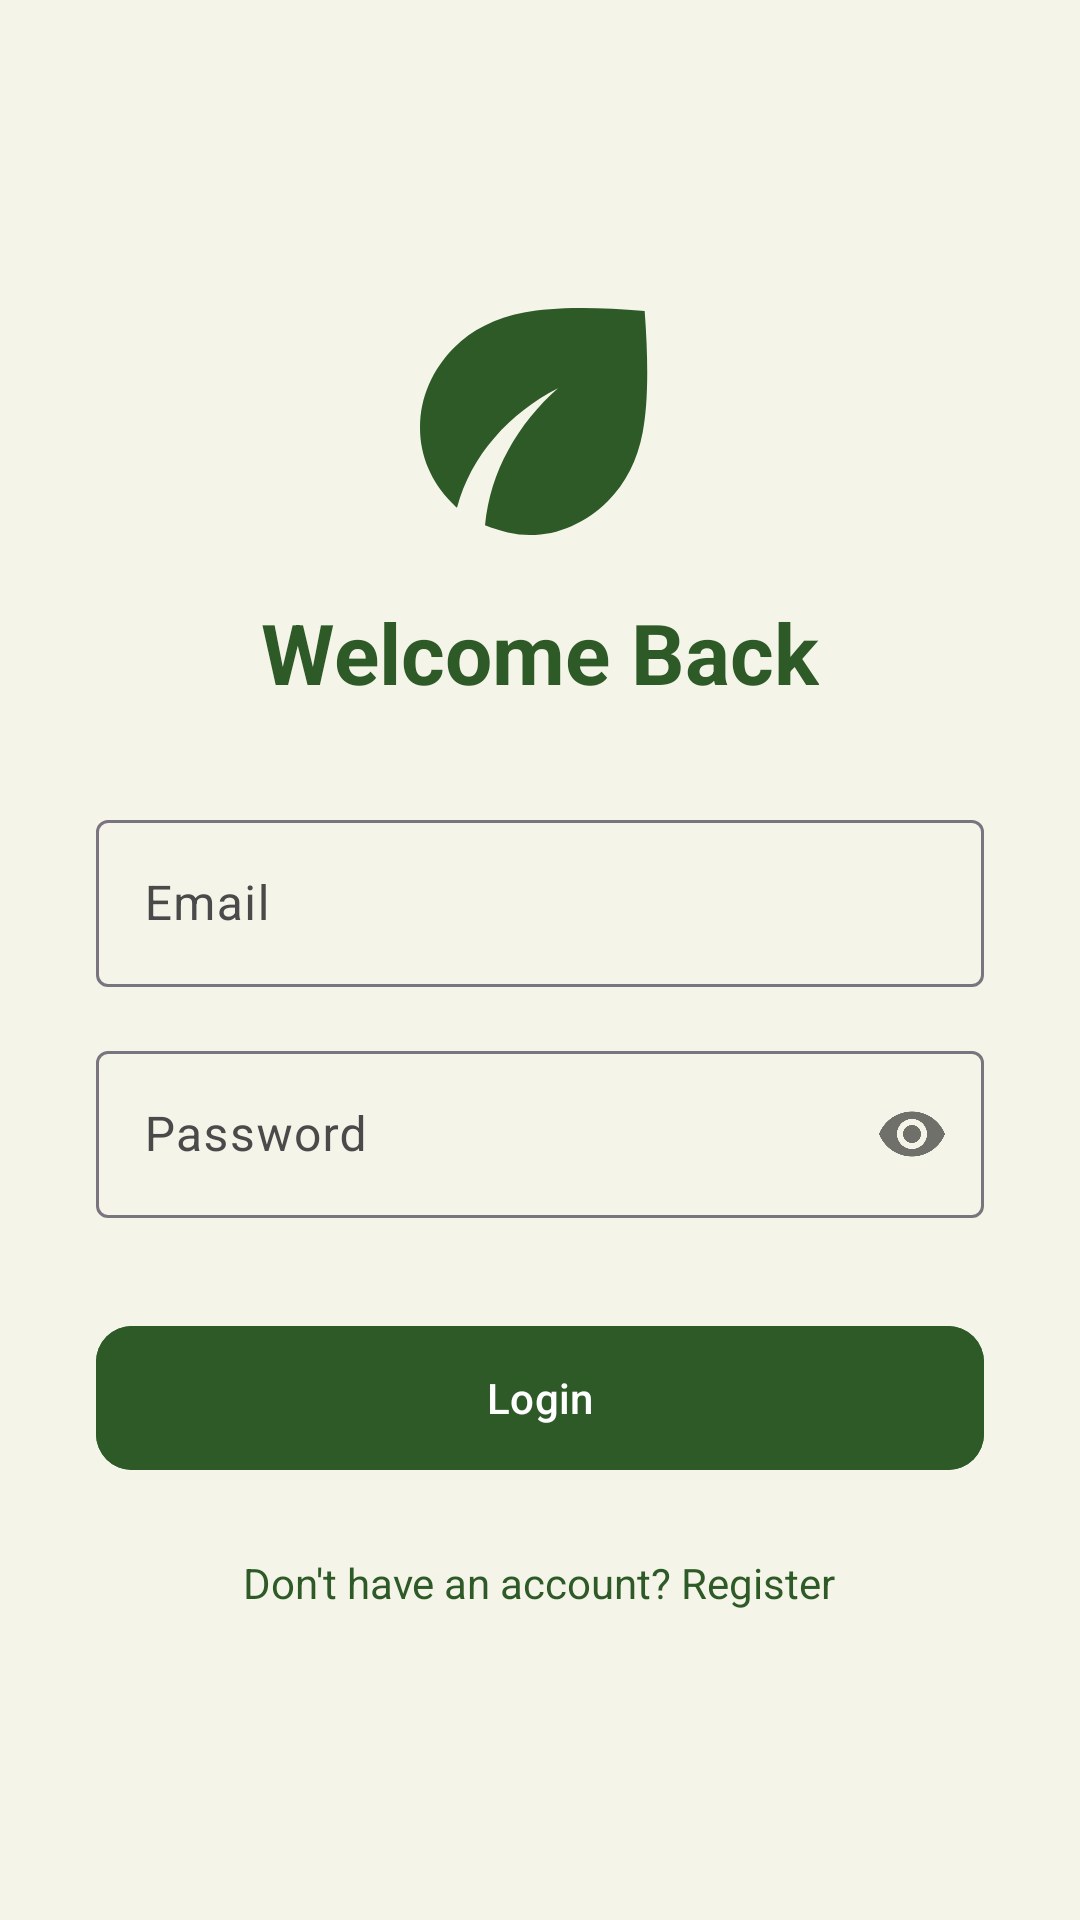

Icons on this 1080px×1920px Android screen, each with its box as (x1, y1, x2, y2):
leaf: (420, 308, 648, 535)
